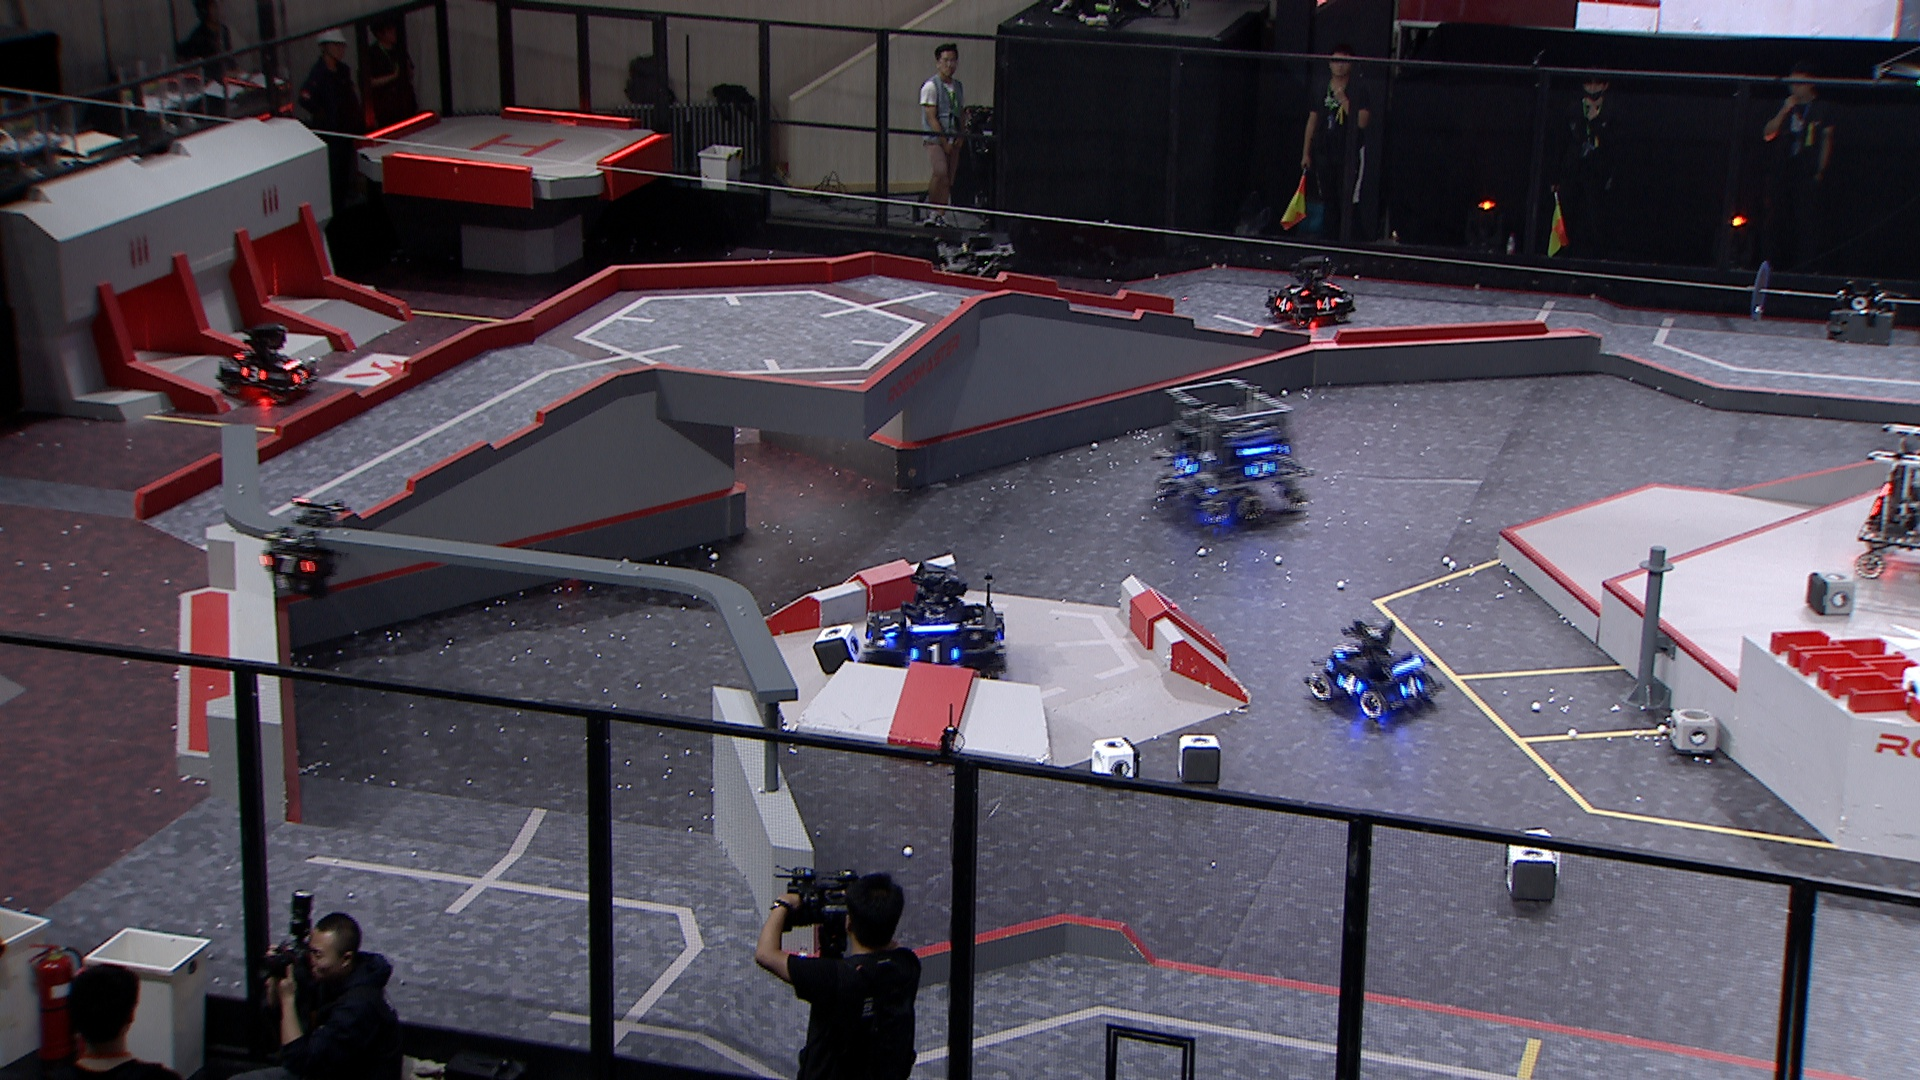armor: (261, 550, 314, 576), (910, 640, 960, 665), (1335, 673, 1366, 698), (1331, 642, 1362, 665), (1247, 460, 1276, 483), (1174, 456, 1200, 479), (1399, 675, 1423, 699), (882, 613, 901, 642), (240, 367, 268, 385), (1282, 285, 1313, 299), (1273, 295, 1296, 314), (1313, 295, 1337, 313), (291, 367, 311, 386)
car: (1153, 377, 1313, 531), (862, 562, 1011, 684), (1305, 622, 1447, 725), (1858, 425, 1920, 583), (219, 327, 318, 405), (935, 228, 1021, 314), (1263, 257, 1358, 332)
watcher: (258, 498, 349, 597)
